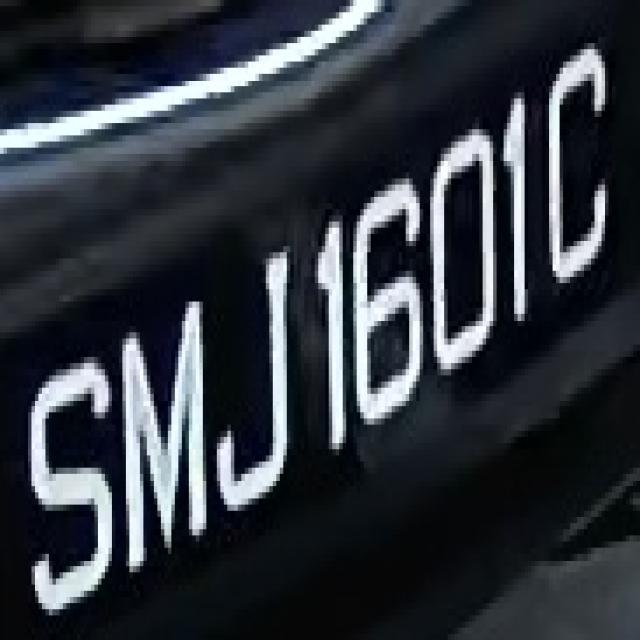0: (412, 105, 497, 369)
1: (297, 185, 360, 492), (486, 55, 542, 357)
6: (349, 147, 426, 430)
C: (535, 18, 623, 314)
J: (203, 240, 301, 523)
M: (105, 289, 217, 591)
S: (14, 351, 112, 609)
